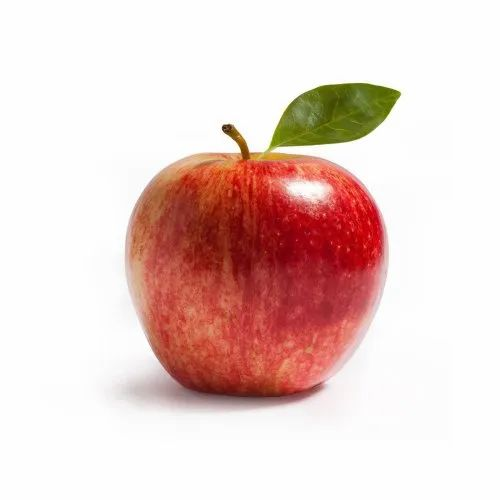apple: (119, 80, 408, 404)
